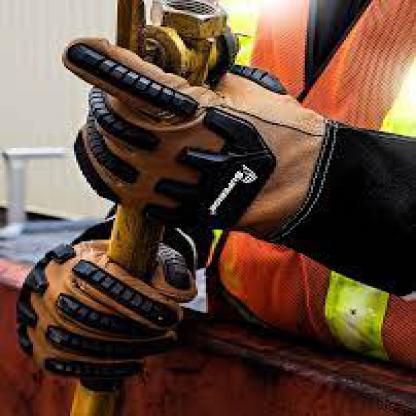glove: (64, 38, 414, 296), (14, 240, 196, 382)
